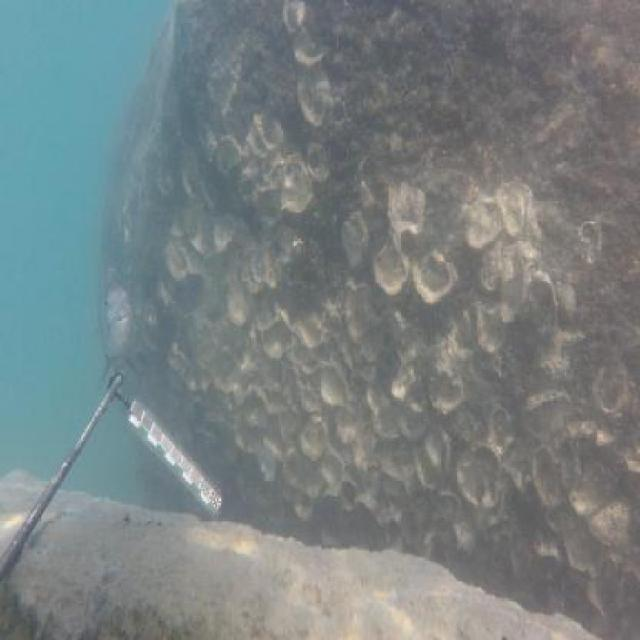acanthopagrus_palmaris: (94, 251, 143, 384)
